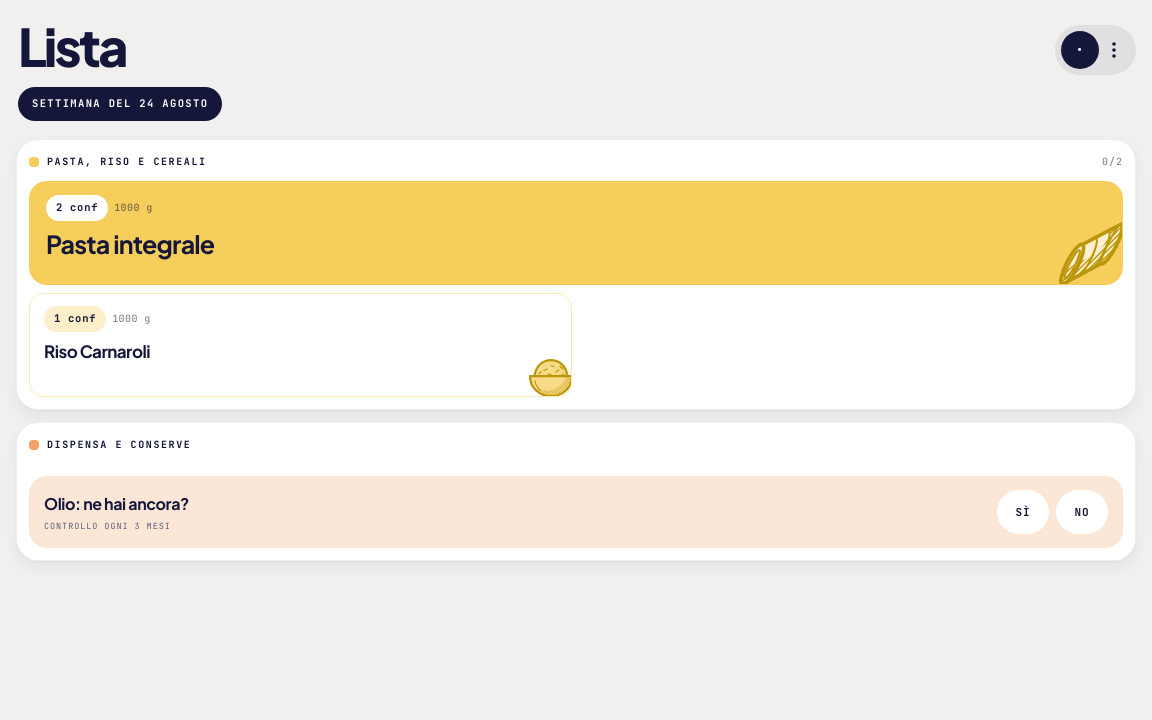
Test: Lista › "NO" su un controllo lo converte e ricarica la lista dal server
This screenshot has width=1152, height=720.
Expected: the text "Olio: ne hai ancora?" is shown, [44,493,189,514]
Click the button with aria-label "No, comprane una confezione di Olio". click: (1082, 512)
box: [1056,490,1108,534]
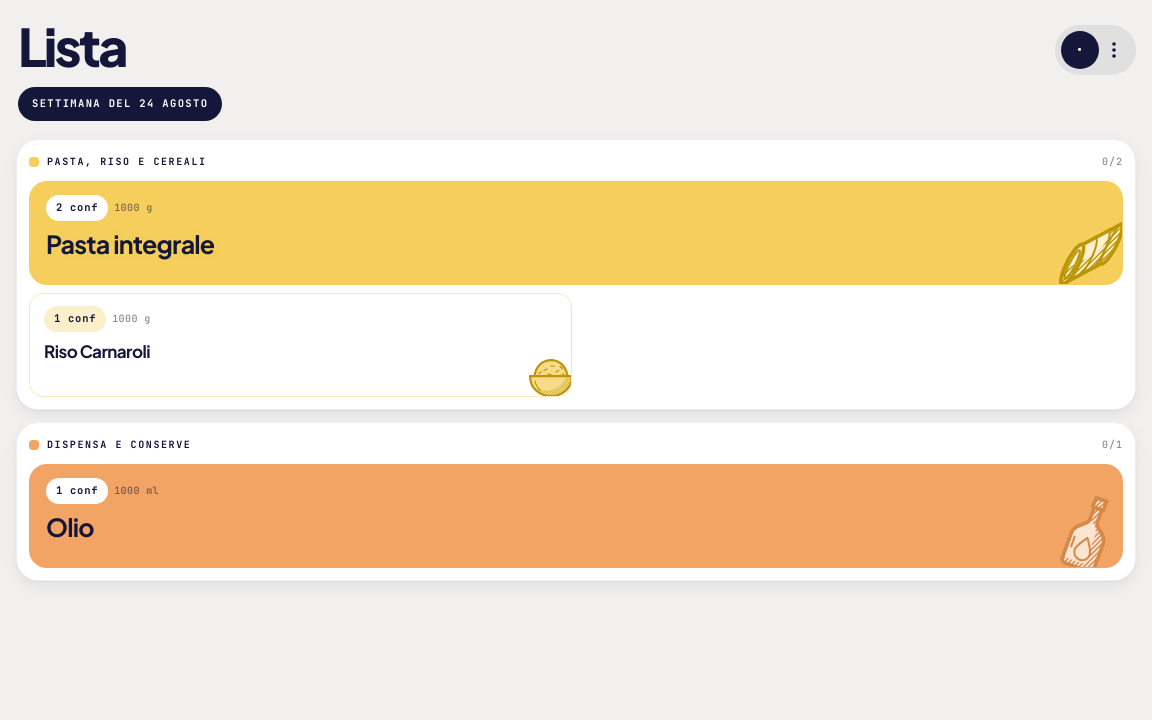
Expected: the text "Olio" is shown, [46,514,94,541]
Expected: the text "Olio: ne hai ancora?" is gone
